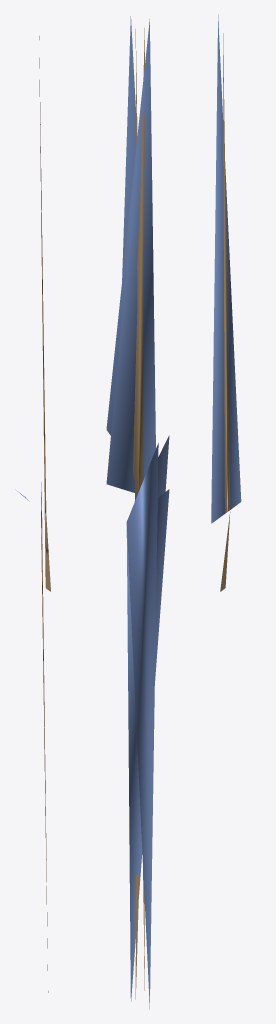
The model's file is equip_weapon_rune_axe.glb.
3 views of the same model, side by side, from view 1: azimuth 30°, elevation 25°; view 2: azimuth 150°, elevation 25°; view 3: azimuth 330°, elevation 25° (orthographic).
Visible parts, largest first — view 1: equip_weapon_rune_axe; view 2: equip_weapon_rune_axe; view 3: equip_weapon_rune_axe.
Part boxes in pixels (bbox=[...]): equip_weapon_rune_axe: bbox=[15, 36, 50, 992]; equip_weapon_rune_axe: bbox=[106, 16, 169, 1009]; equip_weapon_rune_axe: bbox=[211, 14, 241, 591].
Size of the model in its own units: 0.11 by 2 by 0.11.
